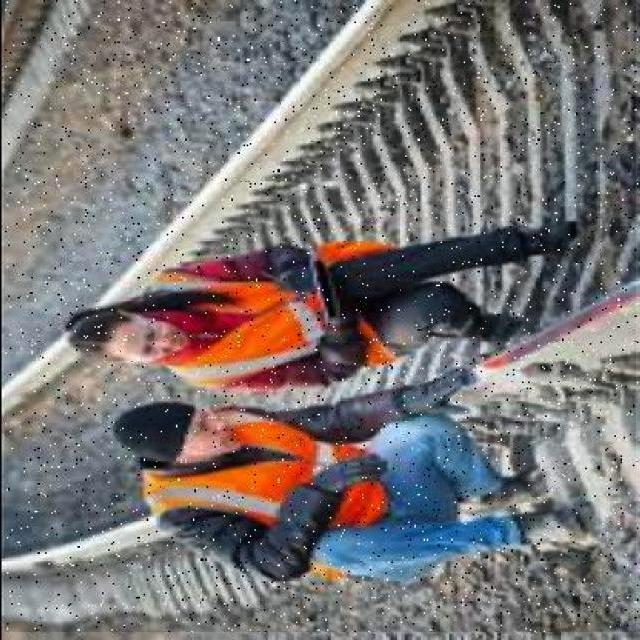rail: (6, 1, 637, 633)
